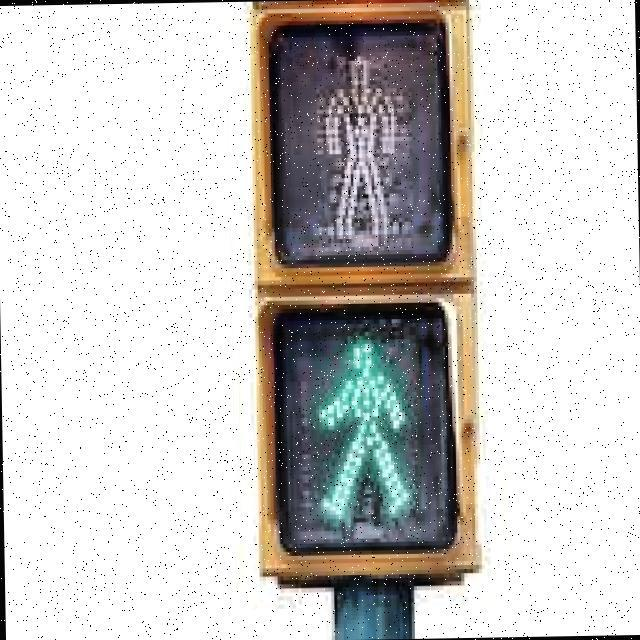green_light: (314, 330, 414, 523)
